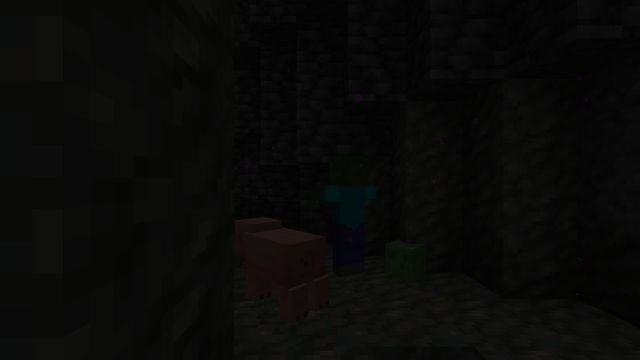cochons: (239, 226, 315, 315)
slimes: (386, 239, 425, 277)
zombies: (330, 159, 368, 278)
